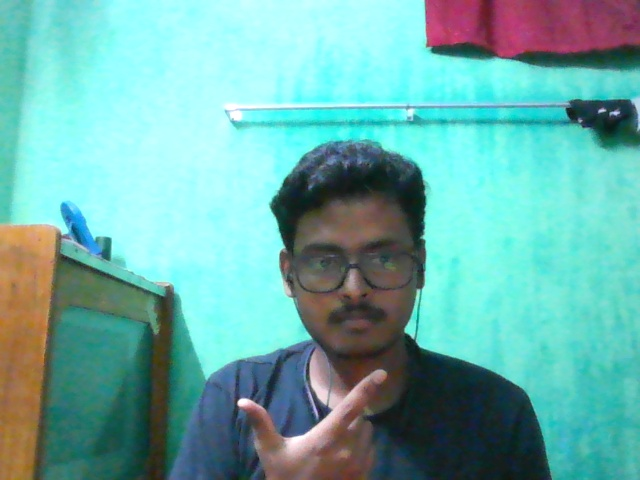ThnakYou: (235, 365, 389, 480)
